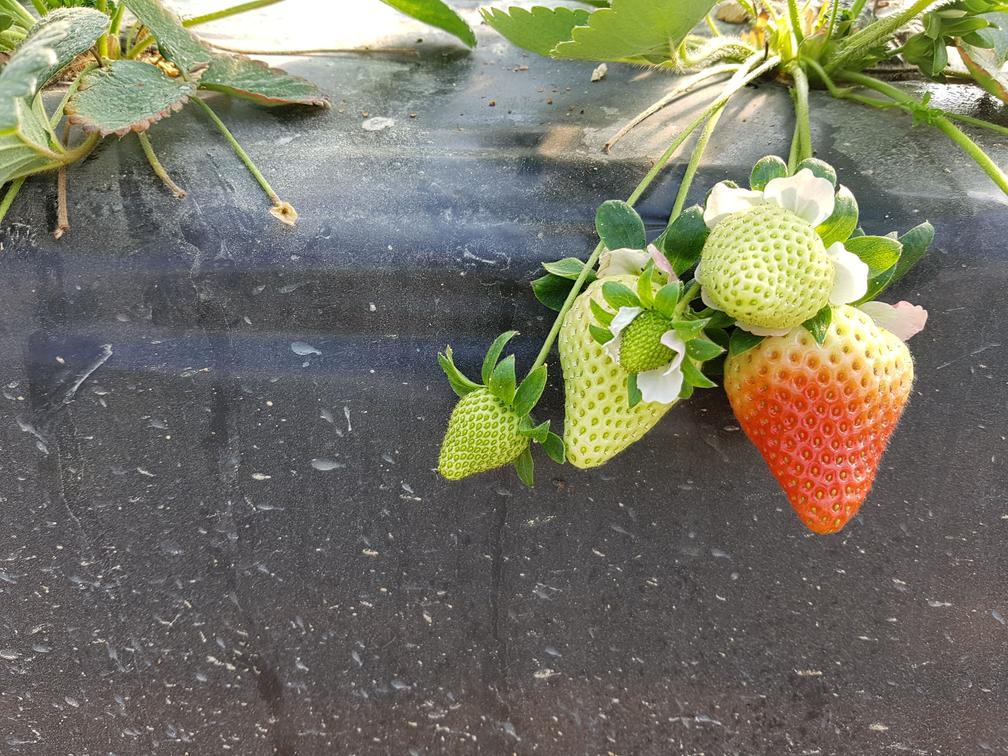Ripe: (724, 339, 927, 545)
Unripe: (556, 275, 695, 472), (695, 204, 842, 326), (434, 388, 537, 497)
